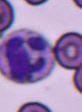N: (1, 29, 52, 84)
